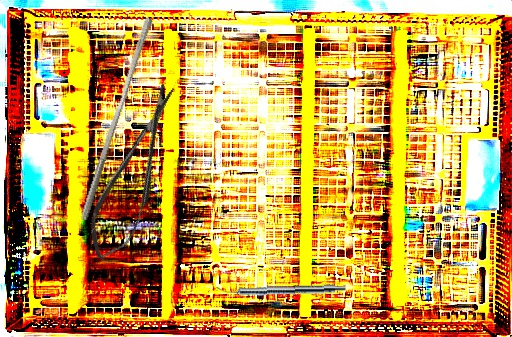Handpiece: (215, 281, 347, 298)
Micro Scissor: (76, 79, 195, 267)
Pusher: (79, 14, 154, 224)
